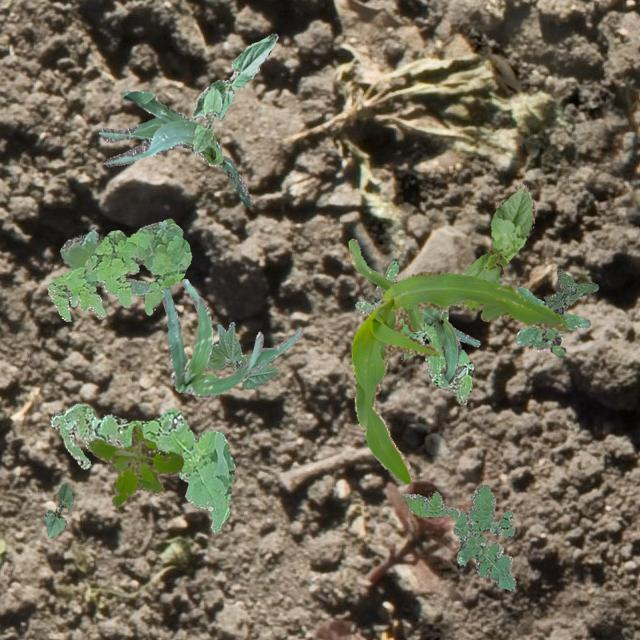crop: (348, 238, 568, 482), (97, 90, 250, 206), (160, 278, 302, 397), (452, 182, 534, 306), (192, 32, 276, 118), (205, 321, 278, 388), (419, 306, 478, 382), (190, 86, 220, 152), (44, 482, 72, 536)
weed: (48, 402, 235, 532), (354, 260, 472, 404), (46, 218, 190, 320), (402, 484, 514, 590), (59, 221, 182, 295), (88, 424, 182, 506), (514, 286, 590, 354), (542, 268, 598, 318)
